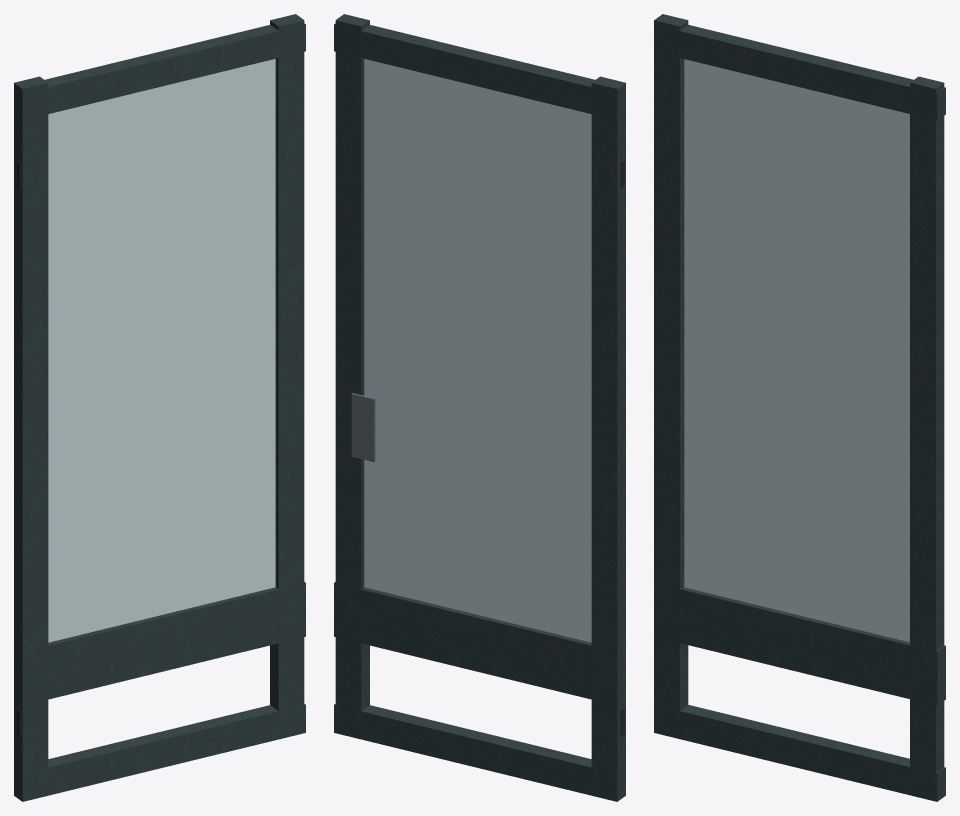
The model's file is Shop_Door_Leaf.glb.
3 views of the same model, side by side, from view 1: azimuth 30°, elevation 25°; view 2: azimuth 150°, elevation 25°; view 3: azimuth 330°, elevation 25° (orthographic).
Parts seen in each view (by area): view 1: VIS_low_iron_glass, VIS_powdercoat; view 2: VIS_low_iron_glass, VIS_powdercoat, VIS_steel; view 3: VIS_low_iron_glass, VIS_powdercoat.
Part boxes in pixels (bbox=[...]): VIS_low_iron_glass: bbox=[48, 59, 275, 642]; VIS_powdercoat: bbox=[14, 14, 305, 801]; VIS_low_iron_glass: bbox=[364, 59, 591, 642]; VIS_powdercoat: bbox=[334, 14, 625, 801]; VIS_steel: bbox=[351, 393, 375, 462]; VIS_low_iron_glass: bbox=[684, 59, 909, 642]; VIS_powdercoat: bbox=[654, 14, 945, 801].
Bounding box in the file's own units: 0.993 × 2.38 × 0.0605.
4 materials, 3 textured.
